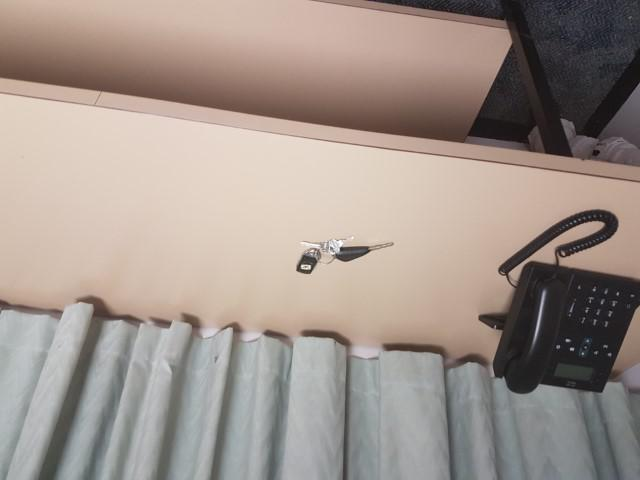key: (333, 238, 396, 264)
